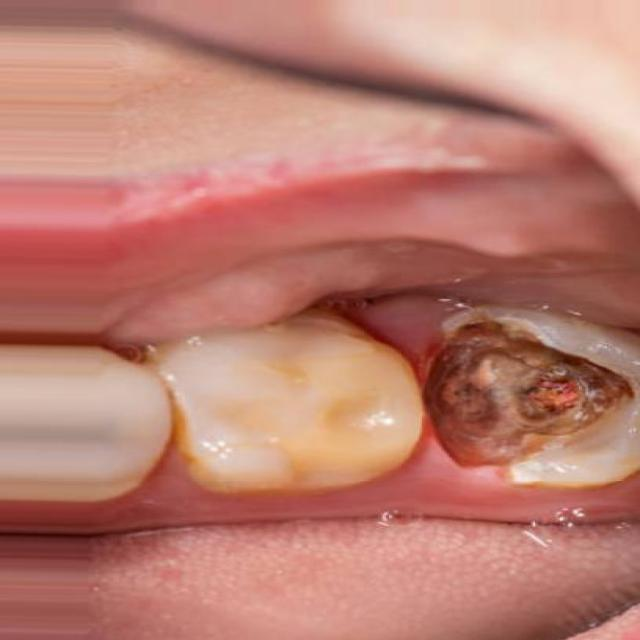caries: (403, 293, 640, 493)
